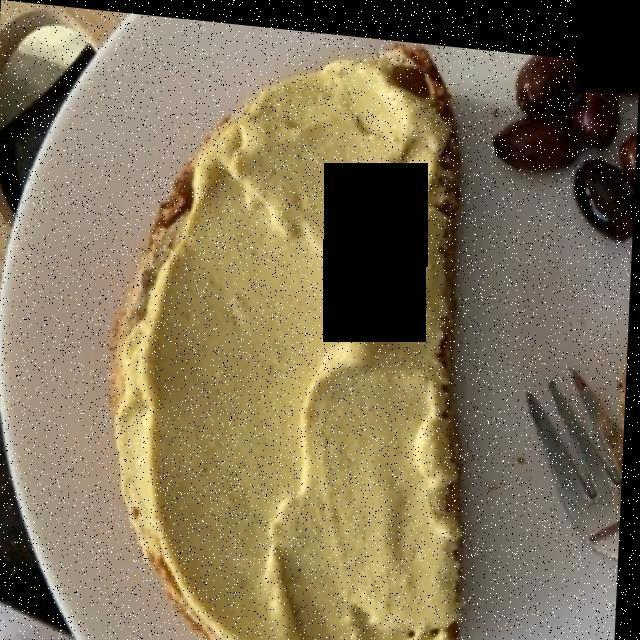bread: (115, 46, 463, 640)
hummus: (135, 50, 467, 640)
